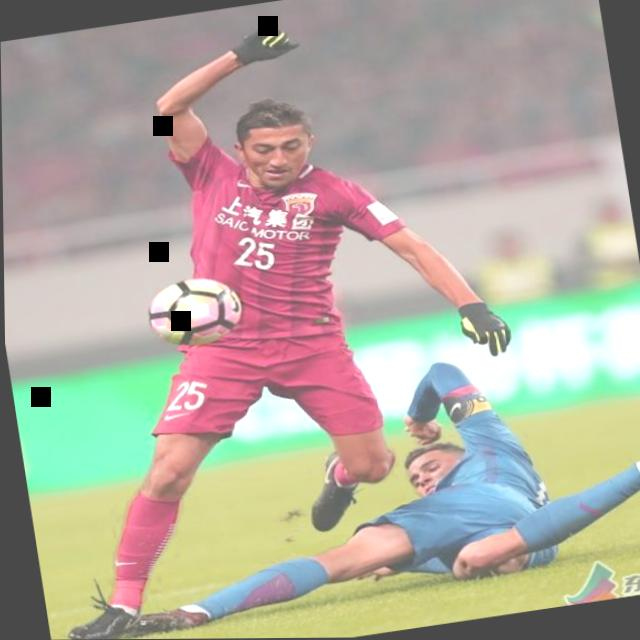Fall-Detected: (86, 326, 640, 633)
